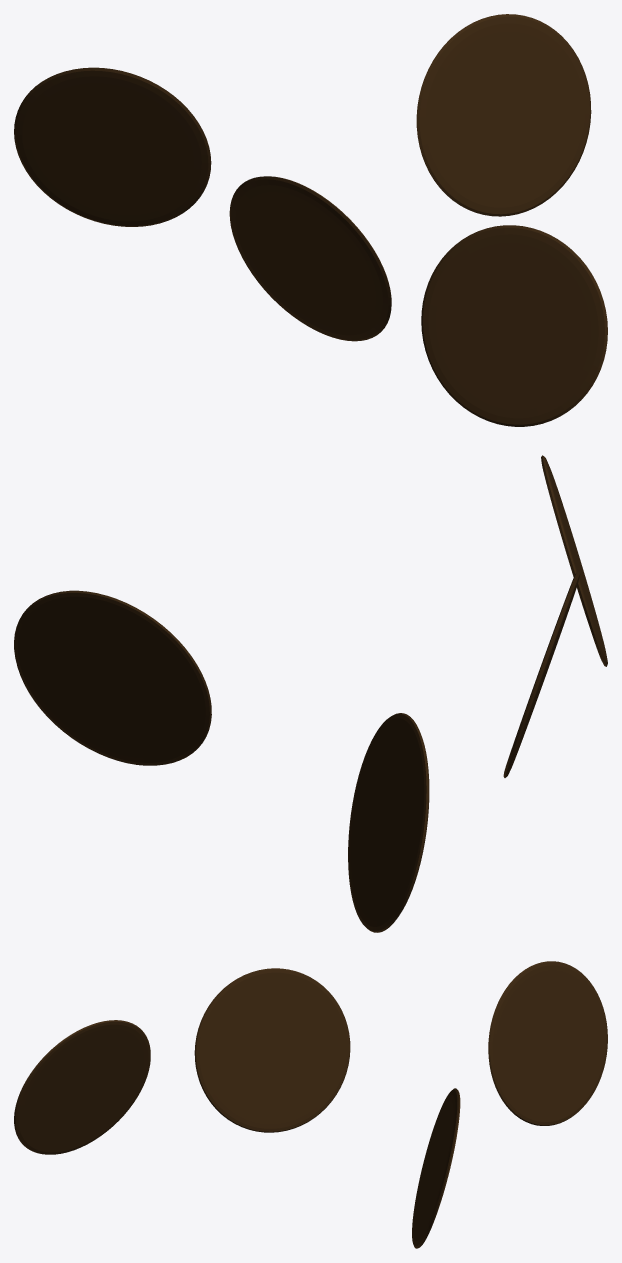
File: DecoChocolateChoco.glb
3 renders of one model, top to bottom at view 1: azimuth 30°, elevation 25°; view 2: azimuth 150°, elevation 25°; view 3: azimuth 270°, elevation 25°, orthographic. The views are drawn at different scales.
Visible parts, largest first — view 1: Circle.002, Circle, Circle.001, Circle.003; view 2: Circle, Circle.001, Circle.002, Circle.003; view 3: Circle.003, Circle.001, Circle.002, Circle.
Part boxes in pixels (x1,y1,x2,y2): Circle.002: (421,225,607,426); Circle: (416,14,591,216); Circle.001: (14,67,211,226); Circle.003: (229,176,391,341); Circle: (14,590,211,765); Circle.001: (348,713,429,932); Circle.002: (541,455,607,666); Circle.003: (503,570,580,777); Circle.003: (194,968,350,1132); Circle.001: (488,961,607,1125); Circle.002: (14,1020,150,1154); Circle: (412,1088,460,1248).
Bounding box in the file's own units: 1.01 × 0.3701 × 1.34.
